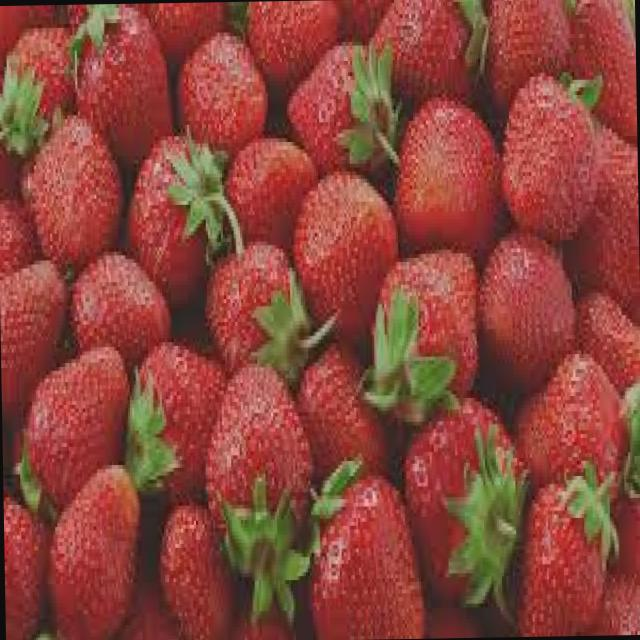strawberry: (401, 395, 527, 607), (202, 360, 314, 546), (19, 342, 132, 510), (292, 167, 401, 340), (393, 94, 502, 260), (498, 71, 603, 243), (128, 336, 231, 504), (372, 248, 478, 406), (72, 3, 173, 168), (22, 113, 123, 278), (122, 140, 224, 300), (478, 230, 576, 394), (286, 37, 388, 182), (205, 236, 303, 378)
